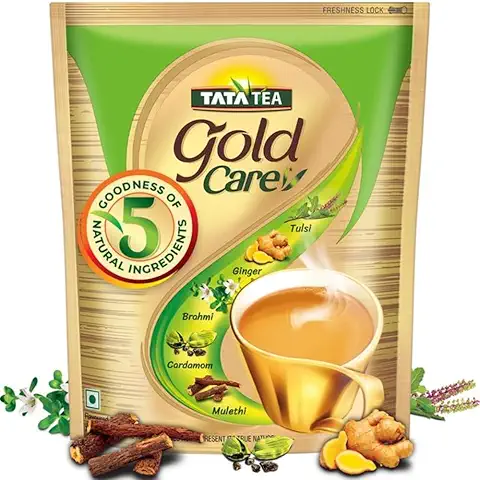Tea: (49, 1, 480, 471)
